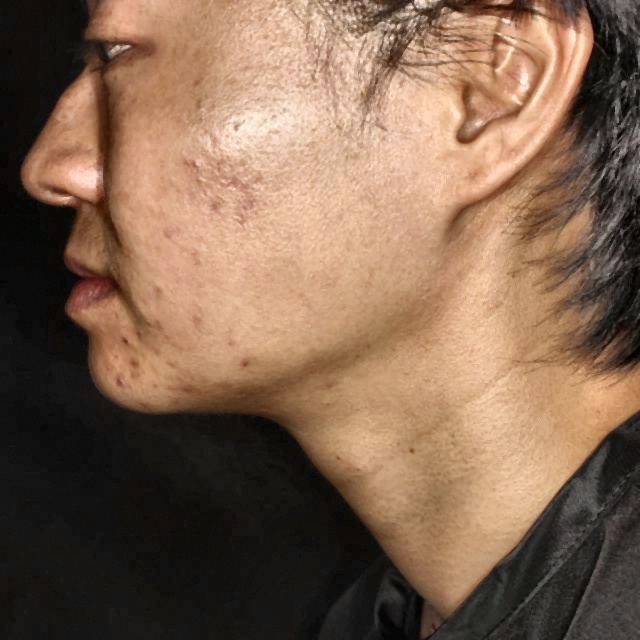comedone: (174, 368, 210, 408), (104, 357, 142, 393)
